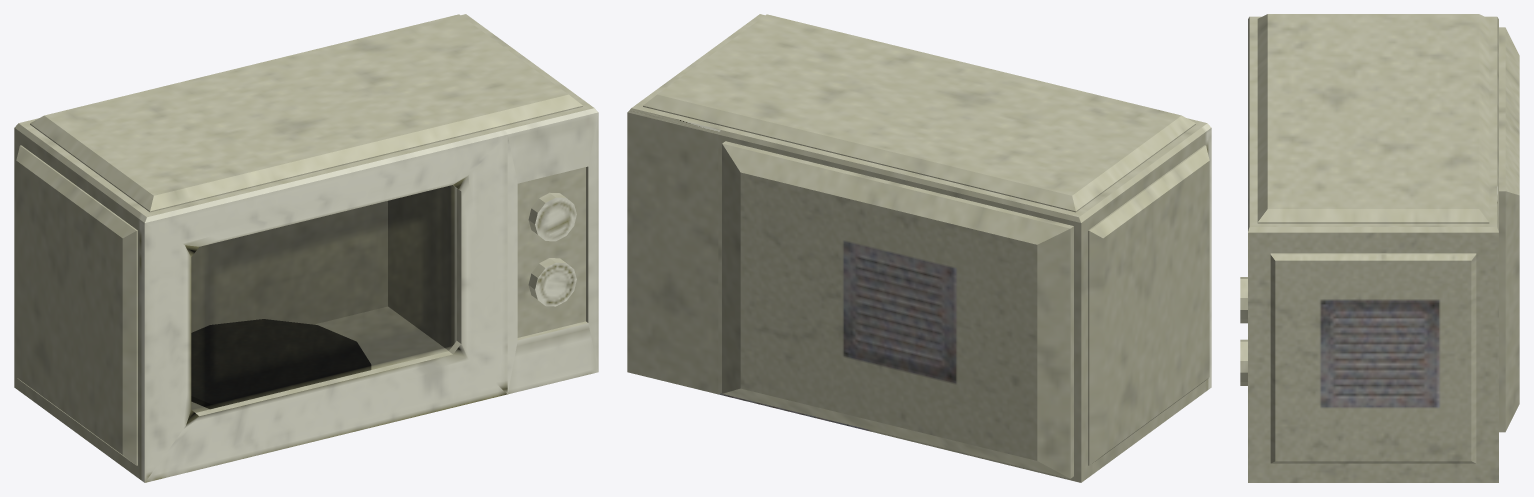
The model's file is microwave.obj.
3 renders of one model, left to right at view 1: azimuth 30°, elevation 25°; view 2: azimuth 150°, elevation 25°; view 3: azimuth 270°, elevation 25°, orthographic. The views are drawn at different scales.
Visible parts, largest first — view 1: microwave; view 2: microwave; view 3: microwave.
Part boxes in pixels (x1,y1,x2,y2): microwave: (14, 14, 598, 482); microwave: (627, 14, 1211, 482); microwave: (1240, 14, 1519, 482).
Bounding box in the file's own units: 0.6512 × 0.3634 × 0.3478.
